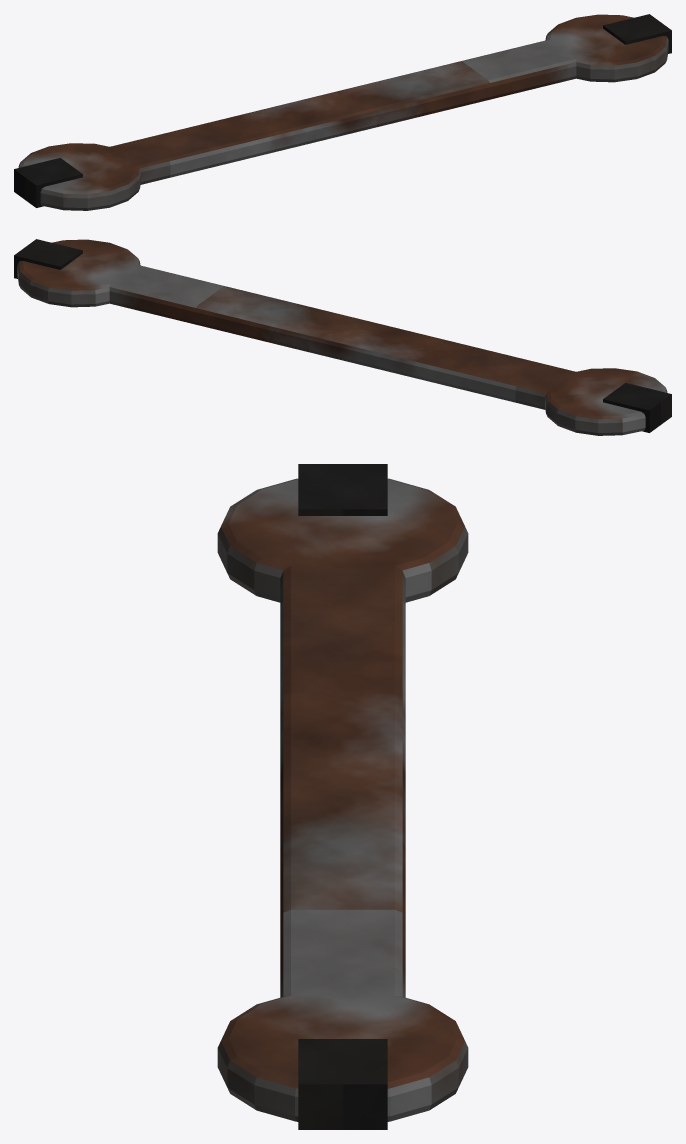
Rendered from P10_big_wrench.glb.
3 views of the same model, one above another, from view 1: azimuth 30°, elevation 25°; view 2: azimuth 150°, elevation 25°; view 3: azimuth 270°, elevation 25° (orthographic). The views are drawn at different scales.
Visible parts, largest first — view 1: P10_big_wrench; view 2: P10_big_wrench; view 3: P10_big_wrench.
Part boxes in pixels (x1,y1,x2,y2): P10_big_wrench: (14, 14, 671, 210); P10_big_wrench: (14, 239, 671, 435); P10_big_wrench: (217, 464, 468, 1129).
Size of the model in its own units: 0.4 by 0.0137 by 0.0683.
2 materials, 2 textured.
